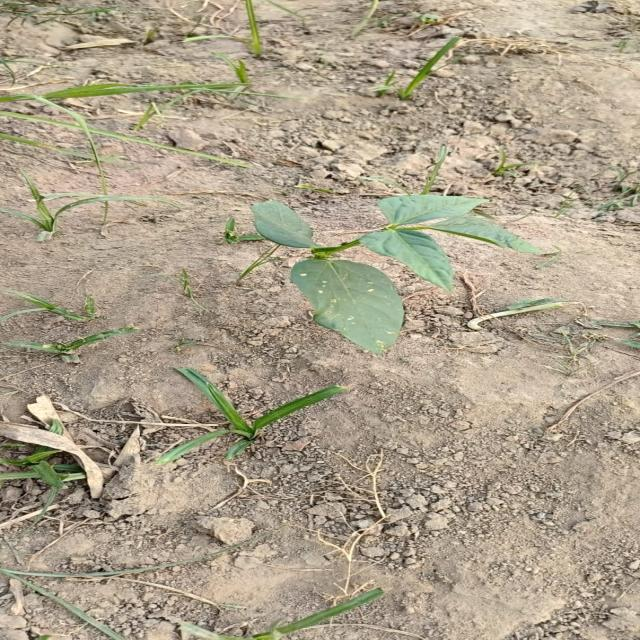plant: (252, 195, 539, 352)
